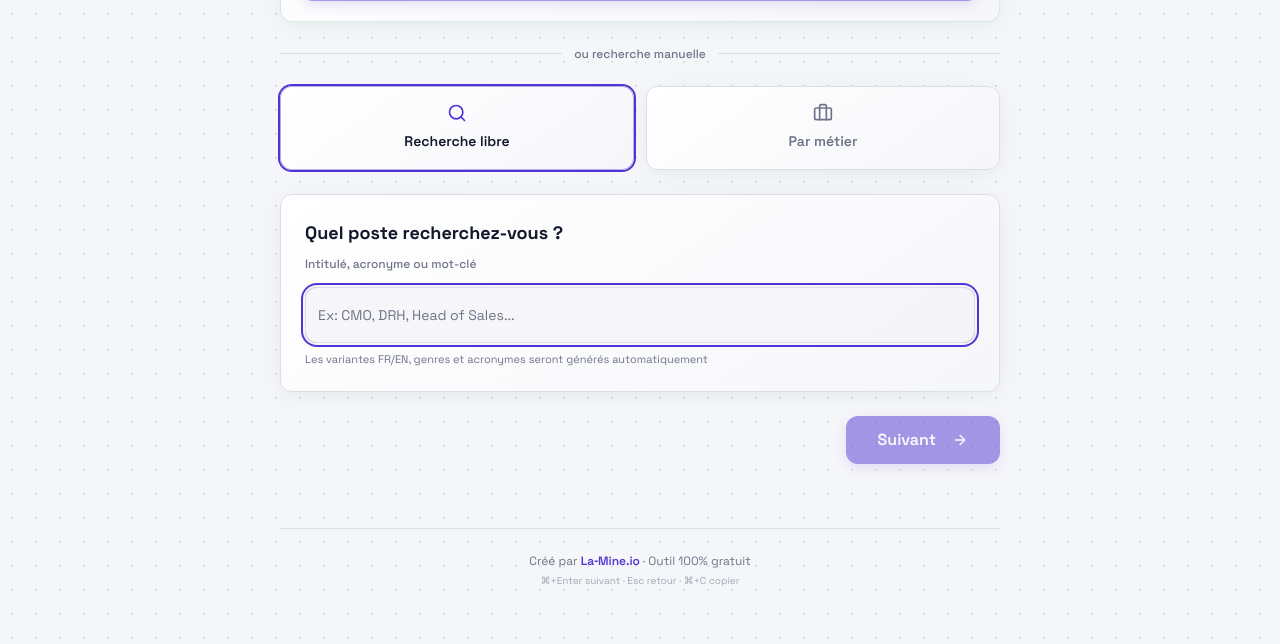
it: BooleanGenerator › should go back from step 2 to step 1
(page scrolled)
Note: Go to step 2
In the field with placeholder "Ex: CMO, DRH, Head of Sales...": x=640, y=314 [305,286,975,342], type "DRH"
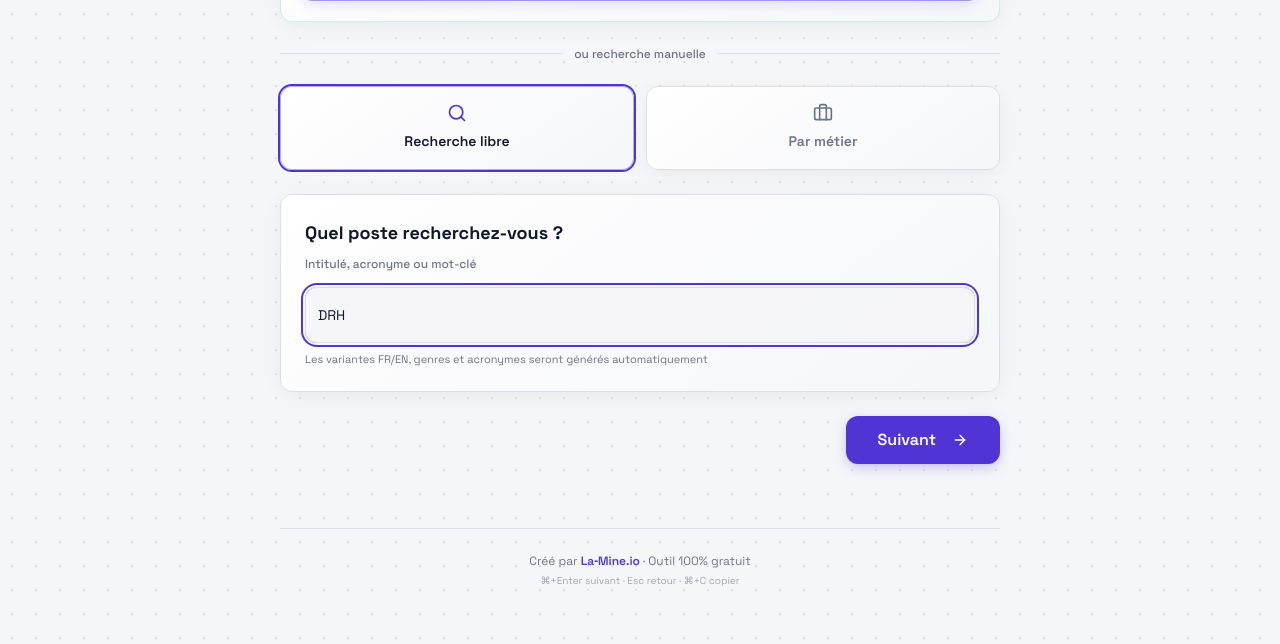
Click the button "Suivant": x=923, y=440 [846,416,1000,464]
(page scrolled)
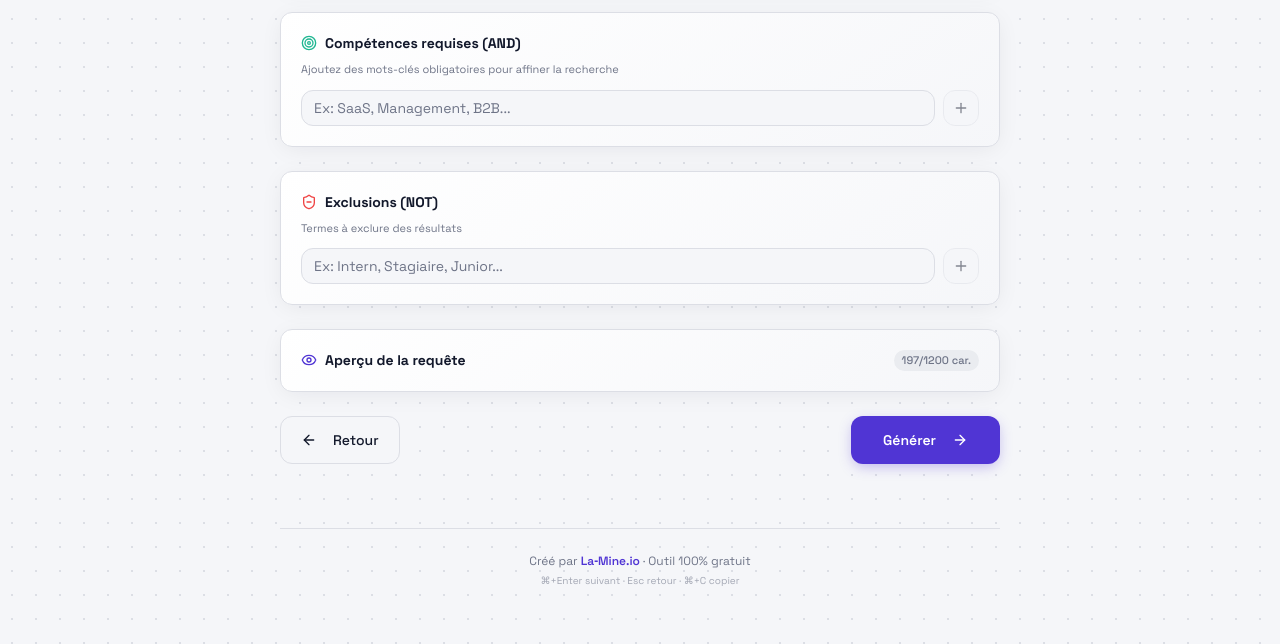
Now the button "Retour" is shown
Note:  Go back
Click the button "Retour": x=340, y=440 [280,416,400,464]
(page scrolled)
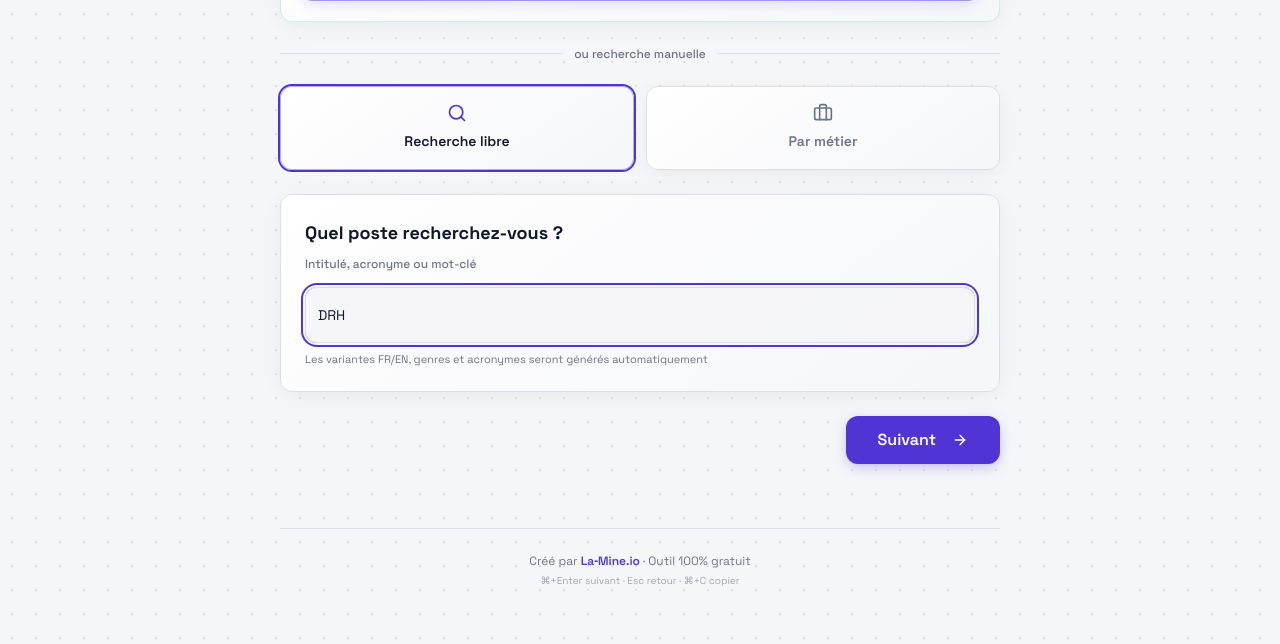
Now the text "Recherche libre" is shown, box [404,132,510,150]
